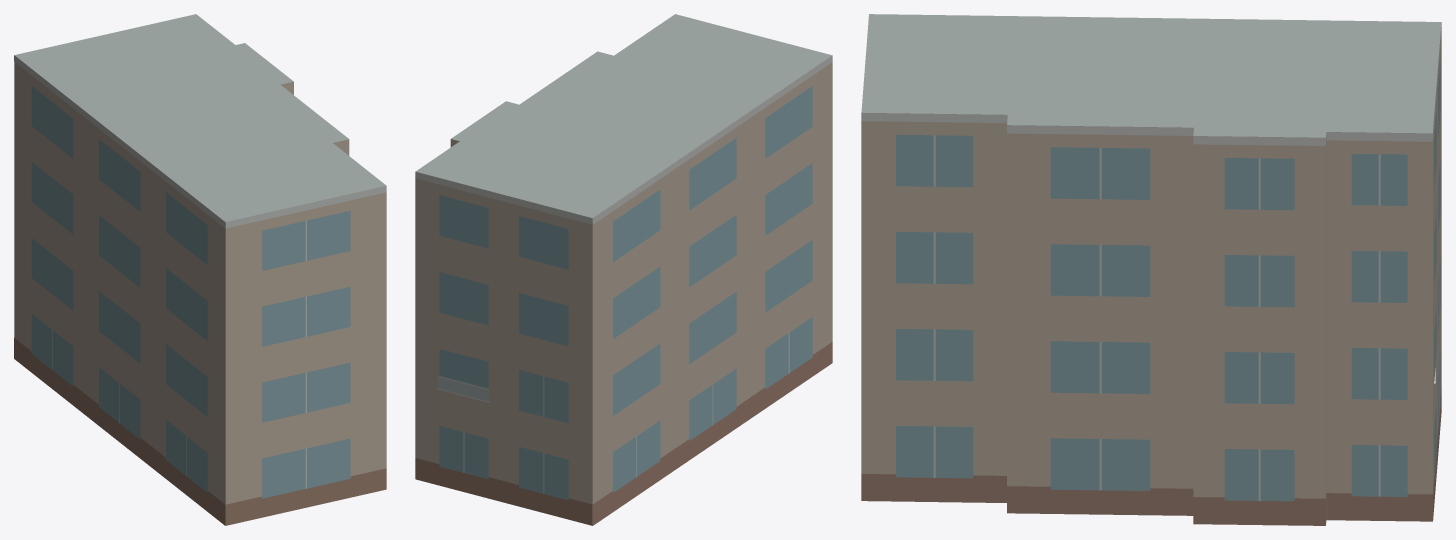
File: survey-upis-32956967.glb
3 renders of one model, left to right at view 1: azimuth 30°, elevation 25°; view 2: azimuth 150°, elevation 25°; view 3: azimuth 270°, elevation 25°, orthographic. The views are drawn at different scales.
Parts seen in each view (by area): view 1: survey-upis-32956967.tmp; view 2: survey-upis-32956967.tmp; view 3: survey-upis-32956967.tmp.
Part boxes in pixels (box(x1,y1,x2,y2)): survey-upis-32956967.tmp: box(14, 14, 386, 525); survey-upis-32956967.tmp: box(415, 14, 832, 525); survey-upis-32956967.tmp: box(861, 14, 1441, 525).
Bounding box in the file's own units: 7.73 × 11.3 × 15.32.
